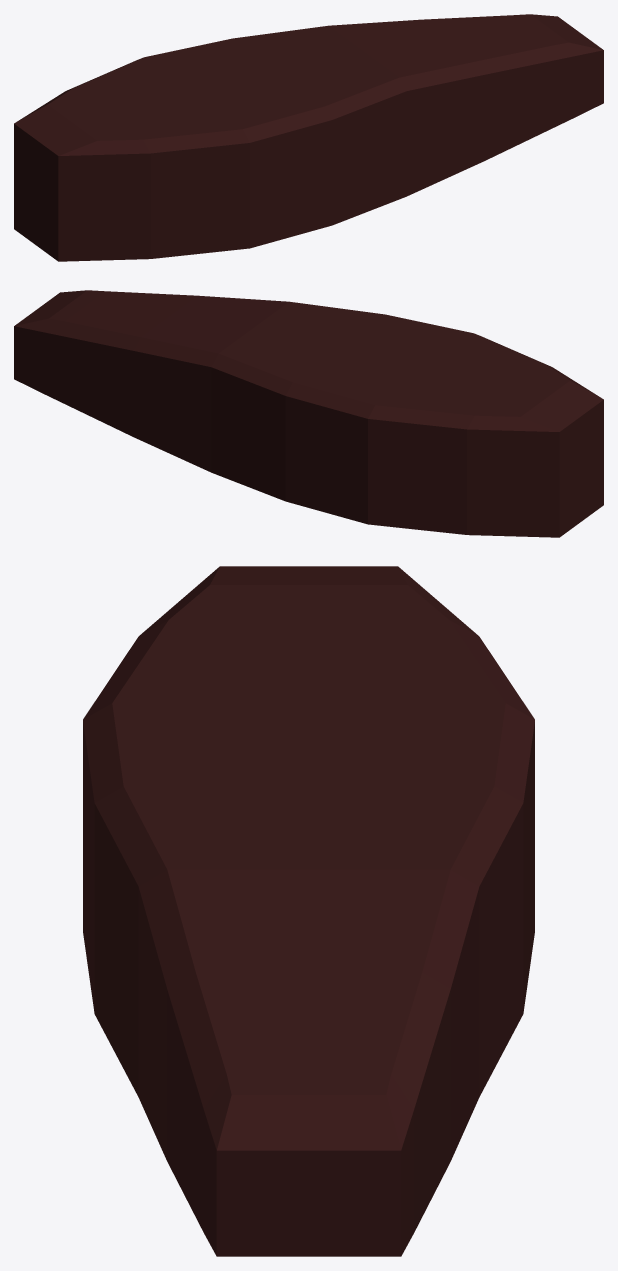
File: Coffin3.fbx
The picture shows the model from 3 angles, top to bottom: view 1: azimuth 30°, elevation 25°; view 2: azimuth 150°, elevation 25°; view 3: azimuth 270°, elevation 25°; orthographic projection. The views are drawn at different scales.
Visible parts, largest first — view 1: Coffin3; view 2: Coffin3; view 3: Coffin3.
Part boxes in pixels (<box>): Coffin3: <box>14,14,603,261</box>; Coffin3: <box>14,290,603,537</box>; Coffin3: <box>83,566,534,1256</box>.
Size of the model in its own units: 933 by 186 by 336.
